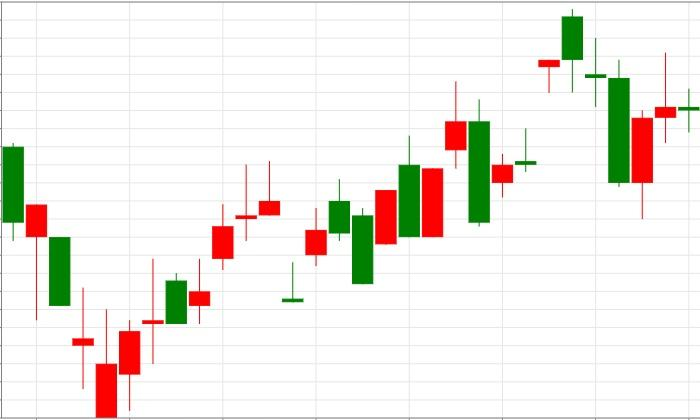bearish_engulfing_fall: (282, 8, 583, 303)
